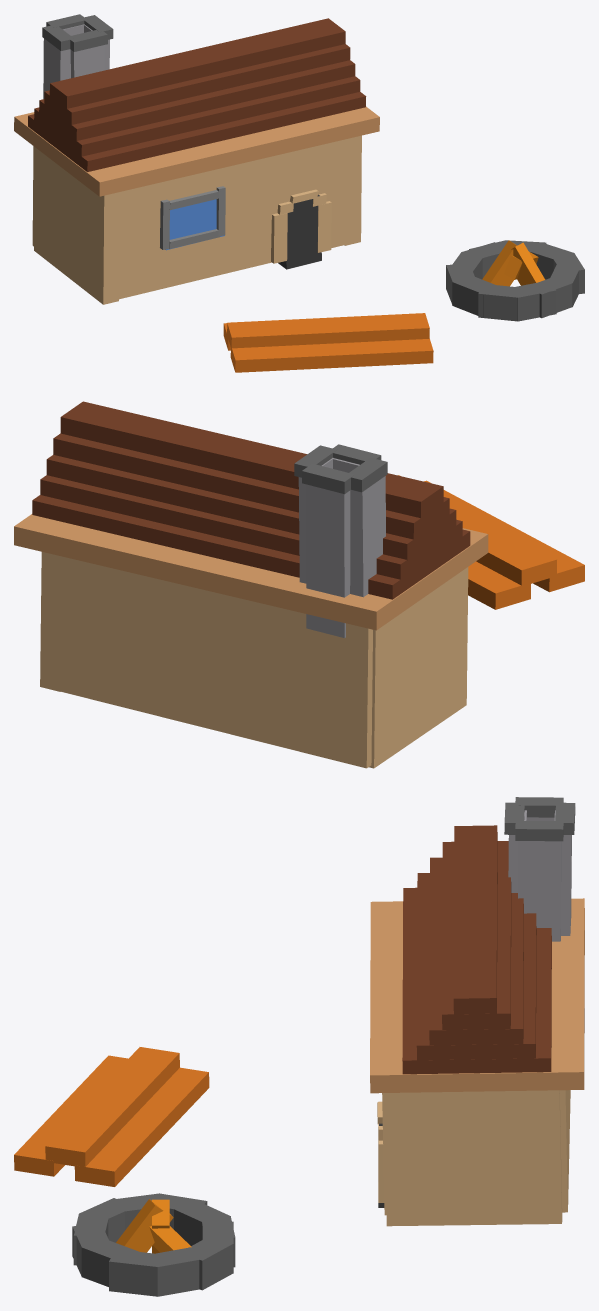
The model's file is house.fbx.
3 renders of one model, top to bottom at view 1: azimuth 30°, elevation 25°; view 2: azimuth 150°, elevation 25°; view 3: azimuth 270°, elevation 25°, orthographic. The views are drawn at different scales.
Parts seen in each view (by area): view 1: Wall.001, Roof1, Wall.003, Roof1.005, Roof1.001, Roof1.003, Roof1.002, Roof1.004, Wood.002, Wood.001, Door, Wall.002 (+22 smaller); view 2: Wall, Roof1, Wall.003, Roof1.005, Roof1.001, Roof1.002, Roof1.004, Roof1.003, Chim.002, Chim, Wood.002, Wood.001 (+7 smaller); view 3: Wall.002, Roof1, Roof1.005, Roof1.001, Wood.002, Roof1.002, Roof1.004, Wood, Roof1.003, Chim.001, Wood.001, Brick.015 (+13 smaller).
Boxes of the visible parts, x1,y1,x2,y2 form: Wall.001: (119, 138, 348, 299); Roof1: (14, 106, 379, 196); Wall.003: (34, 147, 119, 304); Roof1.005: (49, 18, 345, 108); Roof1.001: (28, 92, 366, 171); Roof1.003: (39, 60, 355, 141); Roof1.002: (34, 76, 360, 157); Roof1.004: (44, 44, 350, 124); Wood.002: (227, 313, 429, 349); Wood.001: (230, 339, 433, 372); Door: (278, 194, 321, 269); Wall.002: (344, 135, 361, 245); Wall: (55, 555, 372, 768); Roof1: (14, 514, 488, 630); Wall.003: (369, 567, 468, 768); Roof1.005: (60, 401, 443, 518); Roof1.001: (32, 495, 470, 599); Roof1.002: (40, 475, 462, 580); Roof1.004: (53, 433, 449, 539); Roof1.003: (46, 455, 456, 560); Chim.002: (306, 484, 350, 638); Chim: (350, 476, 385, 597); Wood.002: (398, 475, 556, 586); Wood.001: (424, 480, 584, 592); Wall.002: (384, 1090, 562, 1226); Roof1: (370, 898, 584, 1093); Roof1.005: (453, 825, 497, 1014); Roof1.001: (402, 887, 551, 1074); Wood.002: (45, 1047, 179, 1166); Roof1.002: (416, 873, 536, 1060); Roof1.004: (442, 841, 511, 1029); Wood: (74, 1067, 209, 1186); Roof1.003: (429, 857, 523, 1045); Chim.001: (518, 841, 561, 941); Wood.001: (14, 1055, 127, 1176); Brick.015: (109, 1252, 165, 1296).
Size of the model in its own units: 146 by 148 by 82.04.
